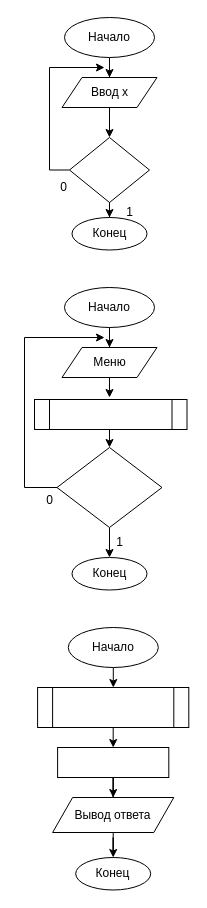
The diagram is 207 pixels wide and 908 high, and some of its shapes have lost their labels. Here are the shapes that lost their labels. From the top down, the box of each, then its label:
(68, 136, 150, 202): x - число
(34, 398, 187, 430): Вызов функции для решения задачи
(56, 446, 162, 528): Был выбран "Выход"
(37, 686, 189, 728): Вызов функции для ввода данных
(57, 746, 169, 778): Решение задачи
